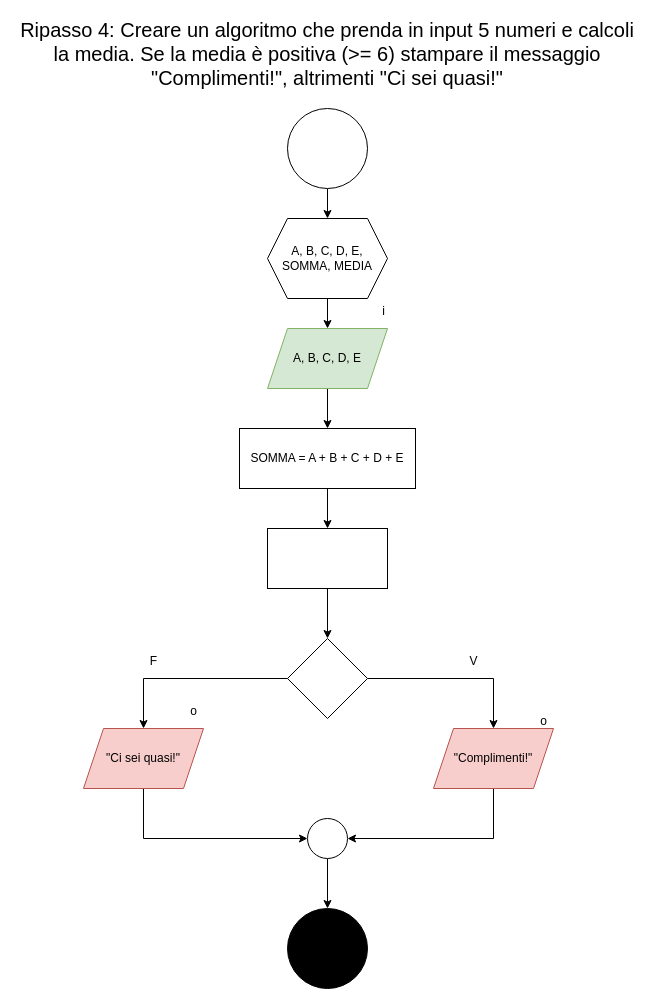
Image size: 654x1006. Some labels were removed from this diagram. The shapes that lost their labels are listed below. From the top down, each one's centre as x and y in pixels, then its label:
pixel 327 558: MEDIA = SOMMA / 5
pixel 327 678: MEDIA >= 6
